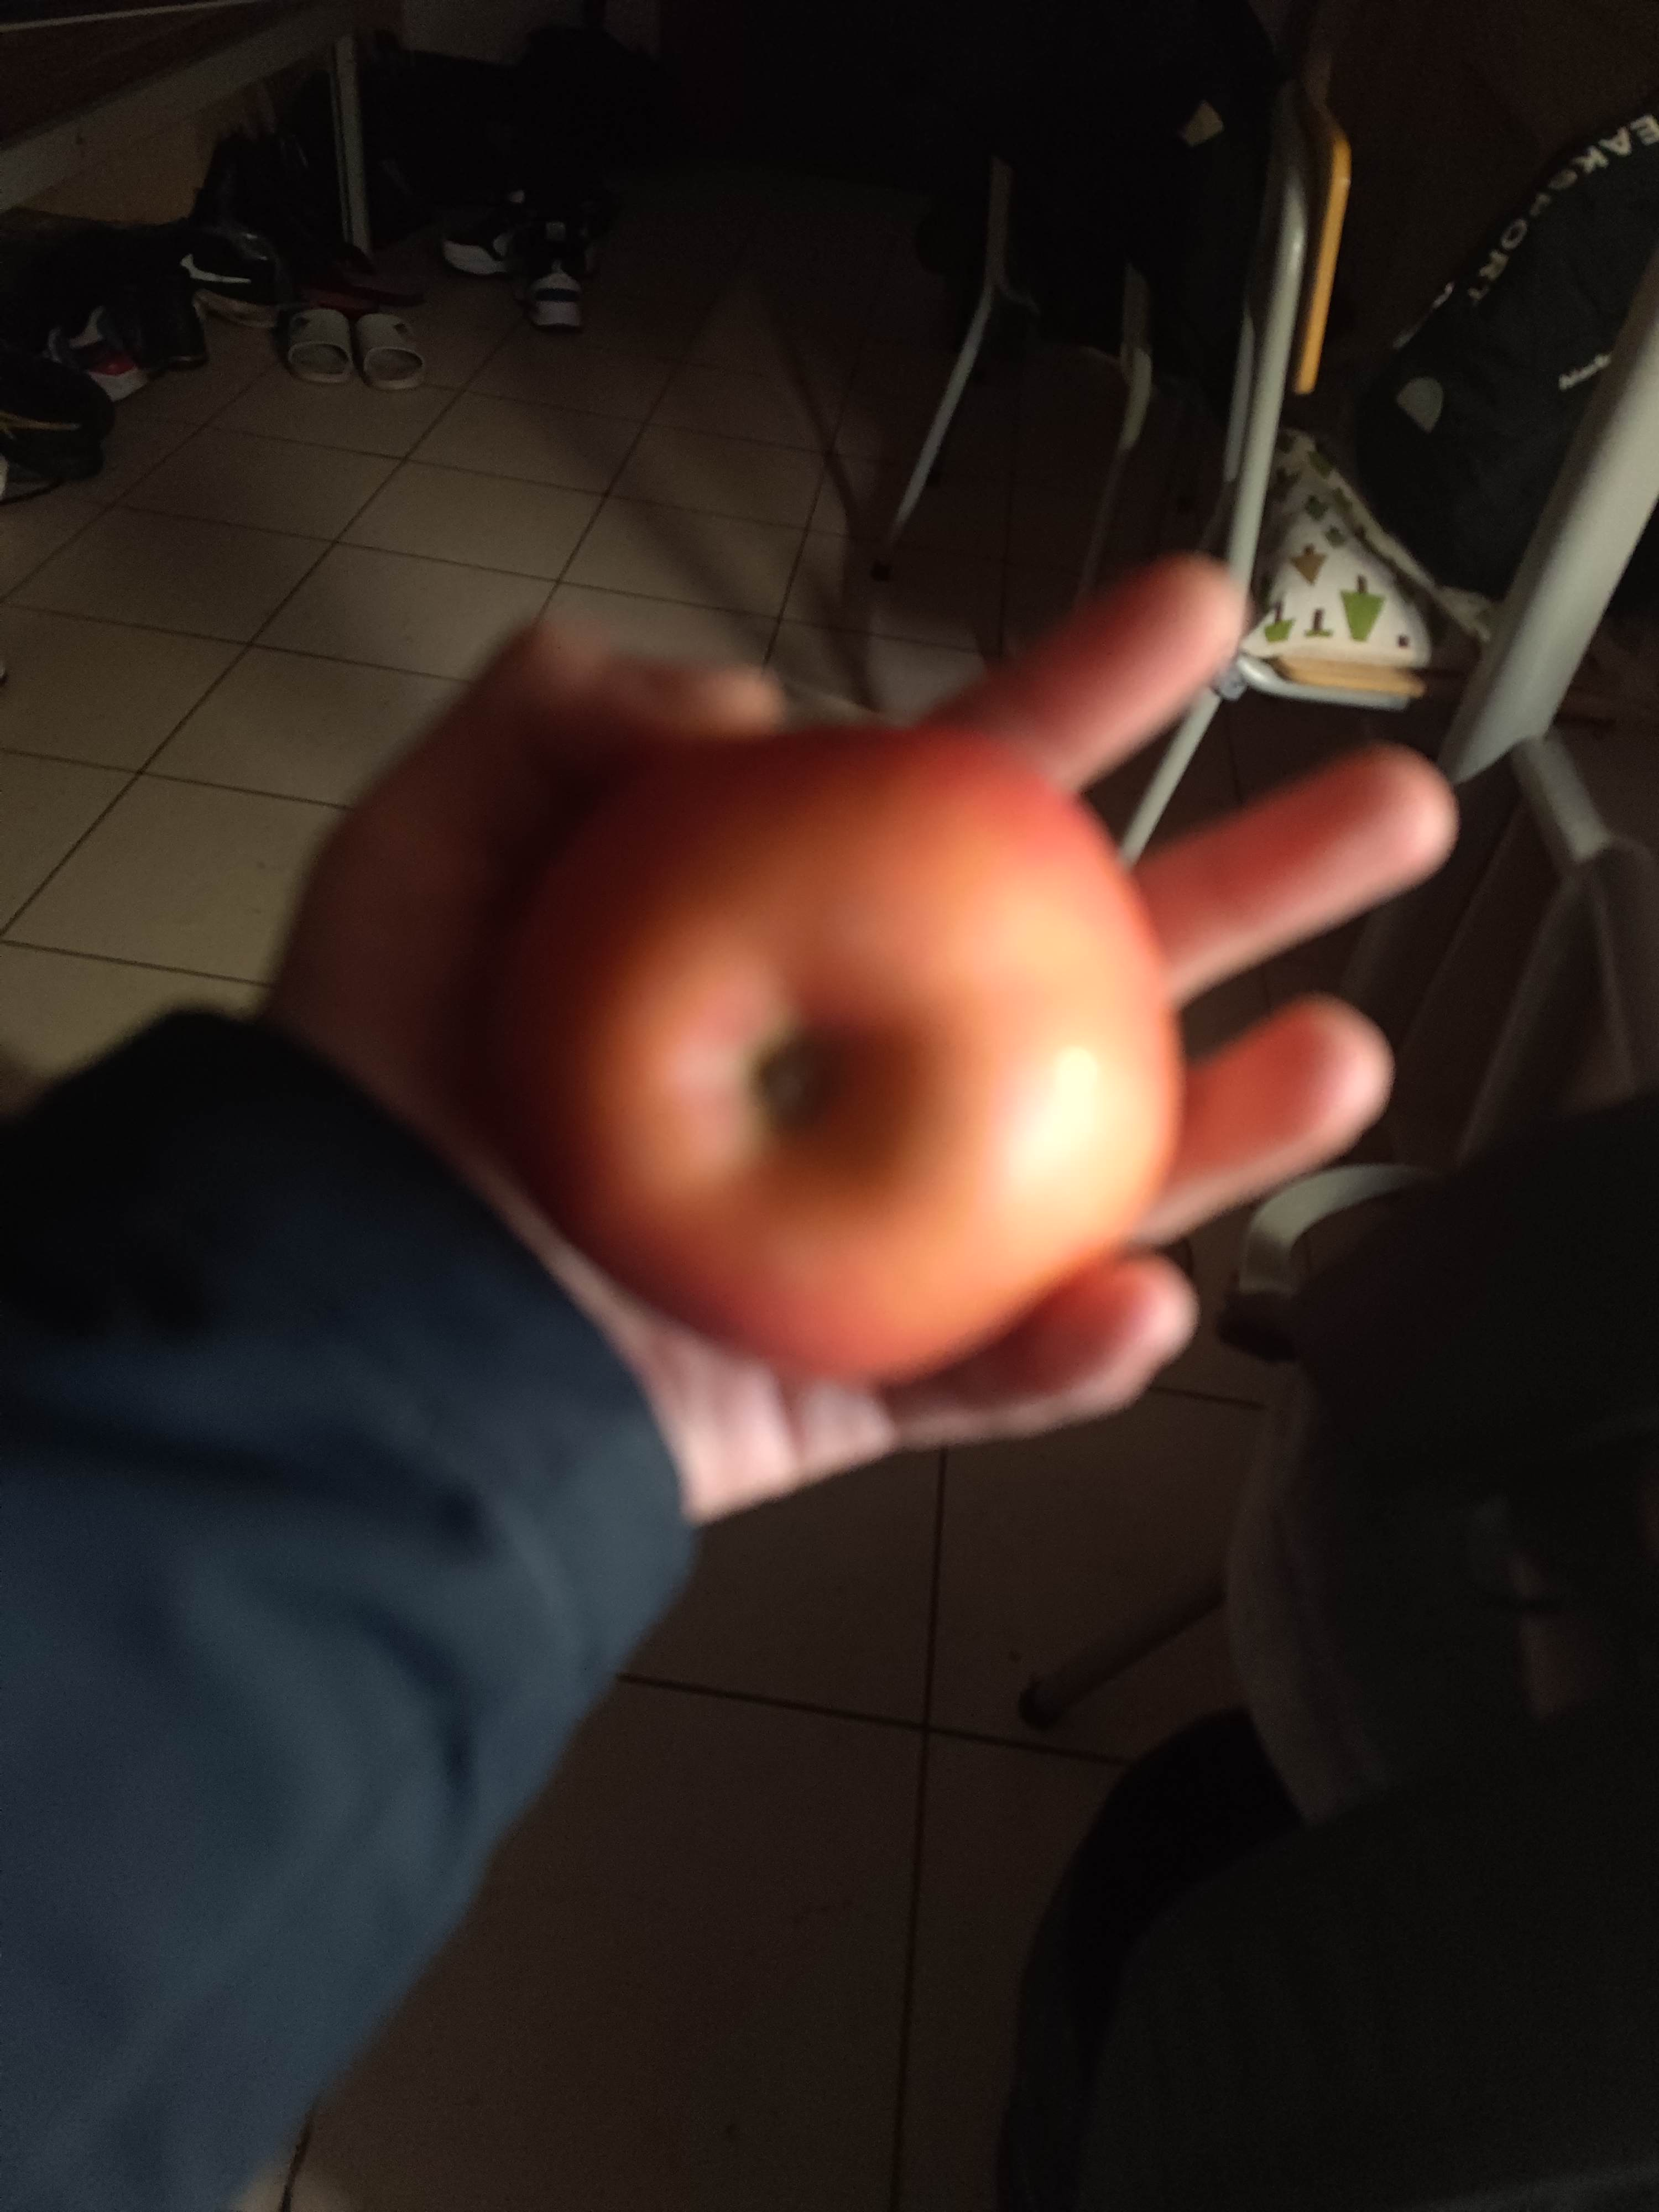apple: (490, 718, 1176, 1369)
